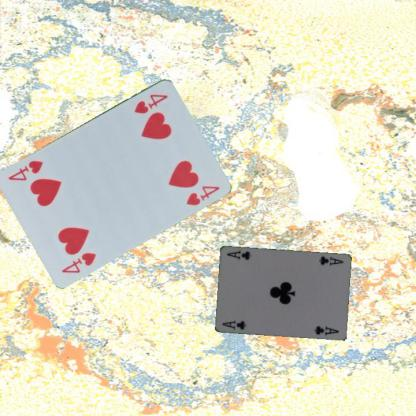4h: (131, 90, 169, 116), (59, 249, 98, 274)
Ac: (316, 254, 344, 268), (219, 318, 247, 331)
